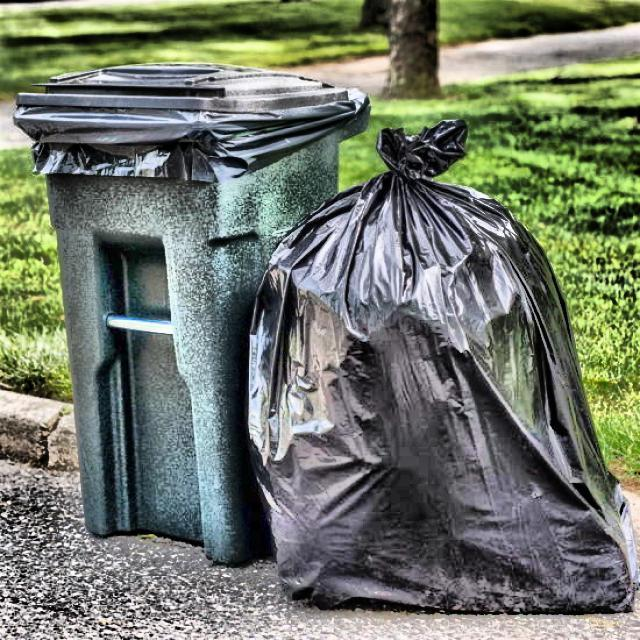Trashbag: (249, 128, 627, 607)
